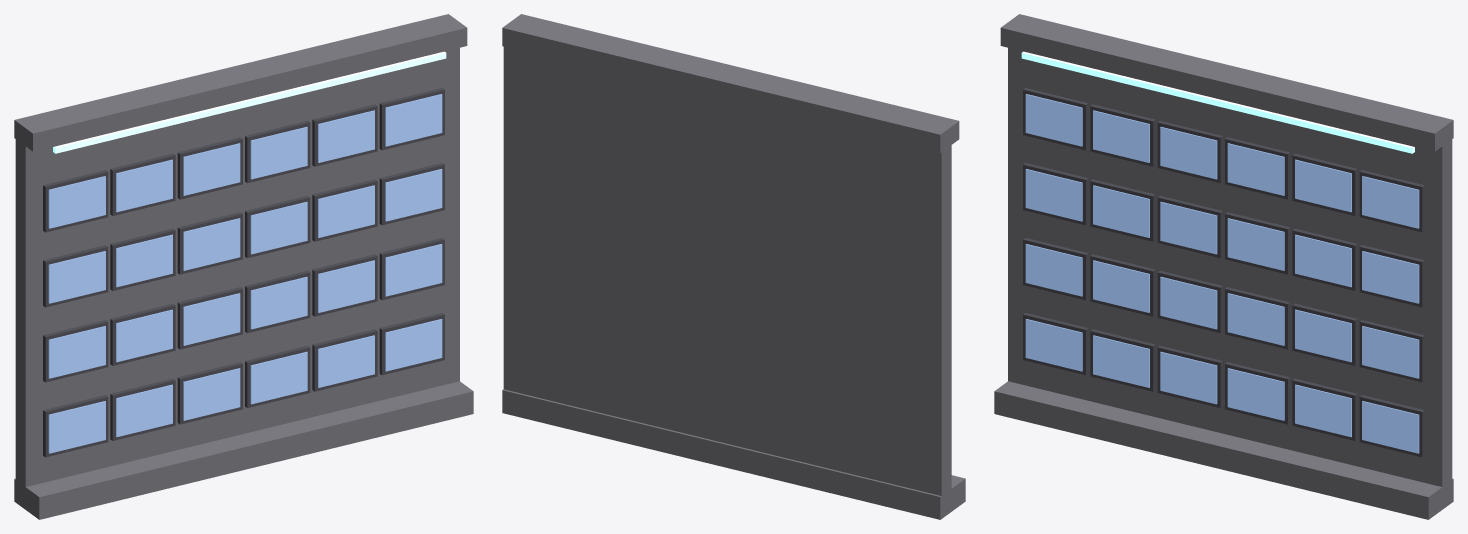
File: casino-floor-and-back-rooms-monitor-wall-039160a8__27067.glb
3 views of the same model, side by side, from view 1: azimuth 30°, elevation 25°; view 2: azimuth 150°, elevation 25°; view 3: azimuth 330°, elevation 25° (orthographic).
Parts seen in each view (by area): view 1: monitor-wall; view 2: monitor-wall; view 3: monitor-wall.
Part boxes in pixels (<box>): monitor-wall: <box>14,14,473,519</box>; monitor-wall: <box>502,14,965,519</box>; monitor-wall: <box>994,14,1453,519</box>.
Size of the model in its own units: 4 by 3.36 by 0.3999.
